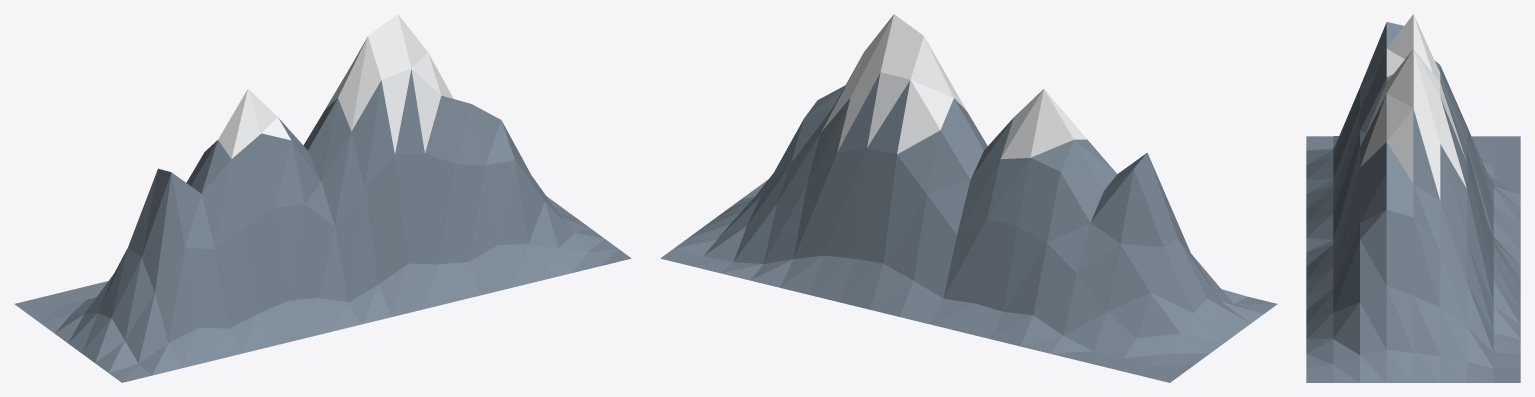
File: nat_mountain_a_v01.glb
The picture shows the model from 3 angles, left to right: view 1: azimuth 30°, elevation 25°; view 2: azimuth 150°, elevation 25°; view 3: azimuth 270°, elevation 25°; orthographic projection.
Visible parts, largest first — view 1: mountain; view 2: mountain; view 3: mountain.
Boxes of the visible parts, box(x1,y1,x2,y2) form: mountain: box(14, 14, 631, 382); mountain: box(660, 14, 1277, 382); mountain: box(1306, 14, 1520, 382).
Size of the model in its own units: 60 by 28 by 22.
